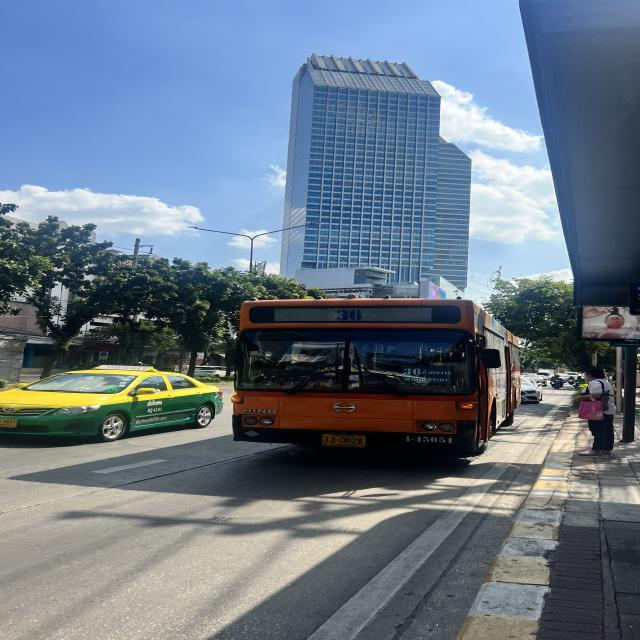BMTA-bus: (226, 296, 521, 460)
Bus Line Number: (330, 308, 368, 322)
Bus Side Number: (399, 432, 459, 447)
Destination Sign: (404, 364, 454, 385)
